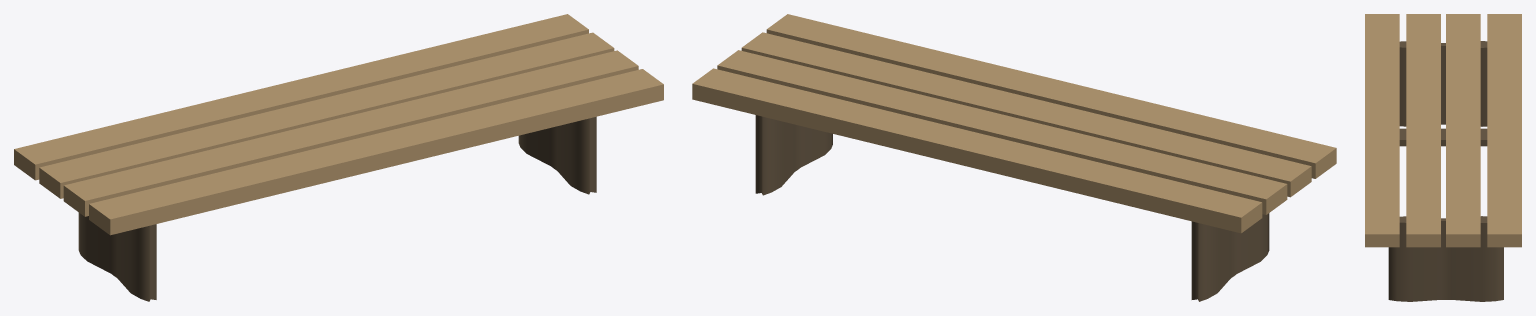
File: Bench1.fbx
The picture shows the model from 3 angles, left to right: view 1: azimuth 30°, elevation 25°; view 2: azimuth 150°, elevation 25°; view 3: azimuth 270°, elevation 25°; orthographic projection. The views are drawn at different scales.
Parts seen in each view (by area): view 1: pCylinder104; view 2: pCylinder104; view 3: pCylinder104.
Part boxes in pixels (left/top/right/bottom): pCylinder104: left=14, top=14, right=663, bottom=301; pCylinder104: left=692, top=14, right=1336, bottom=301; pCylinder104: left=1365, top=14, right=1521, bottom=301.
Bounding box in the file's own units: 6.72 × 1.23 × 2.02.
